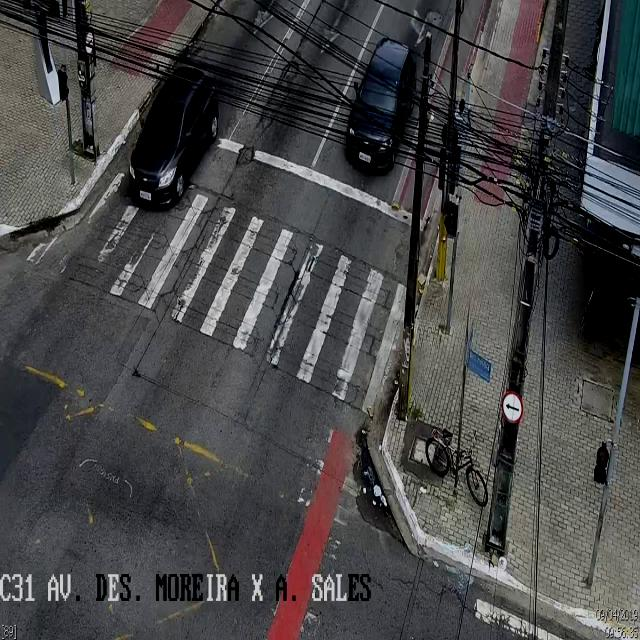Car: (130, 68, 219, 210), (342, 38, 416, 175)
